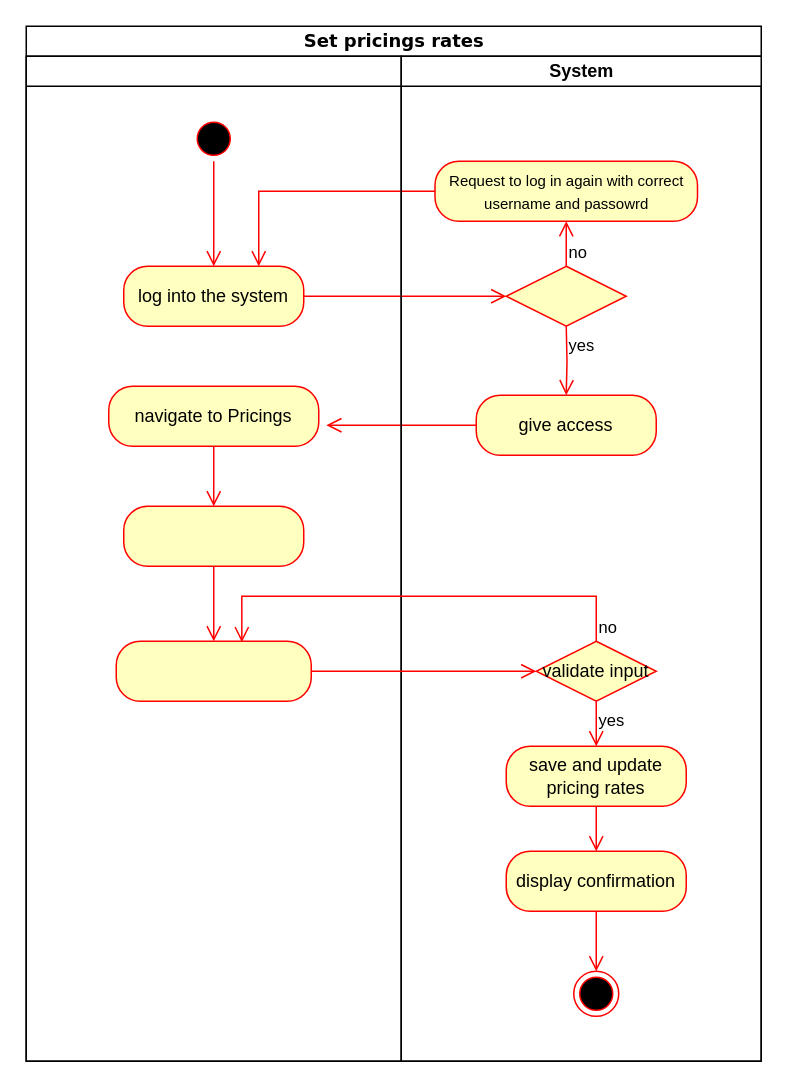
This 788x1088 diagram has some shape labels left out. Here are the shapes that lost their labels. From the top down, the box of each, then its label:
(505, 265, 626, 326): varify account
(122, 505, 304, 566): Select package
(25, 55, 401, 1061): Staff member/hostel section/account division
(115, 640, 311, 701): set rate
